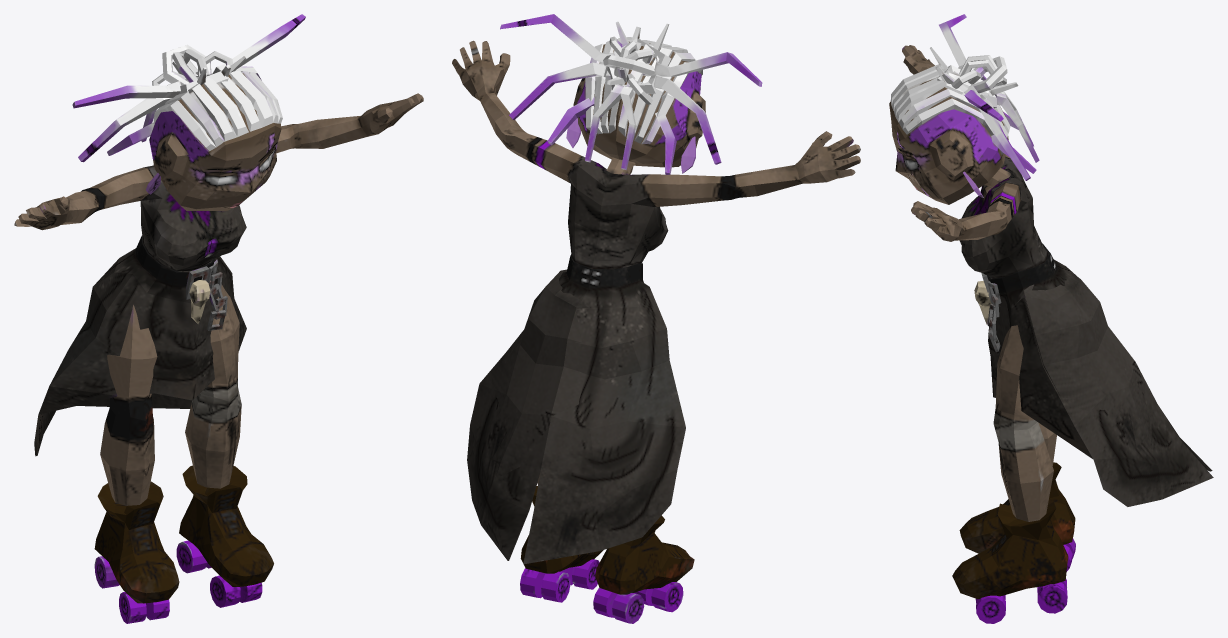
File: bruja_000120.obj
3 renders of one model, left to right at view 1: azimuth 30°, elevation 25°; view 2: azimuth 150°, elevation 25°; view 3: azimuth 270°, elevation 25°, orthographic. The views are drawn at different scales.
Visible parts, largest first — view 1: Bruja_Plane.001; view 2: Bruja_Plane.001; view 3: Bruja_Plane.001.
Part boxes in pixels (x1,y1,x2,y2): Bruja_Plane.001: (14,14,423,623); Bruja_Plane.001: (452,14,860,623); Bruja_Plane.001: (889,14,1213,623).
Size of the model in its own units: 12.1 by 16.2 by 8.8.
